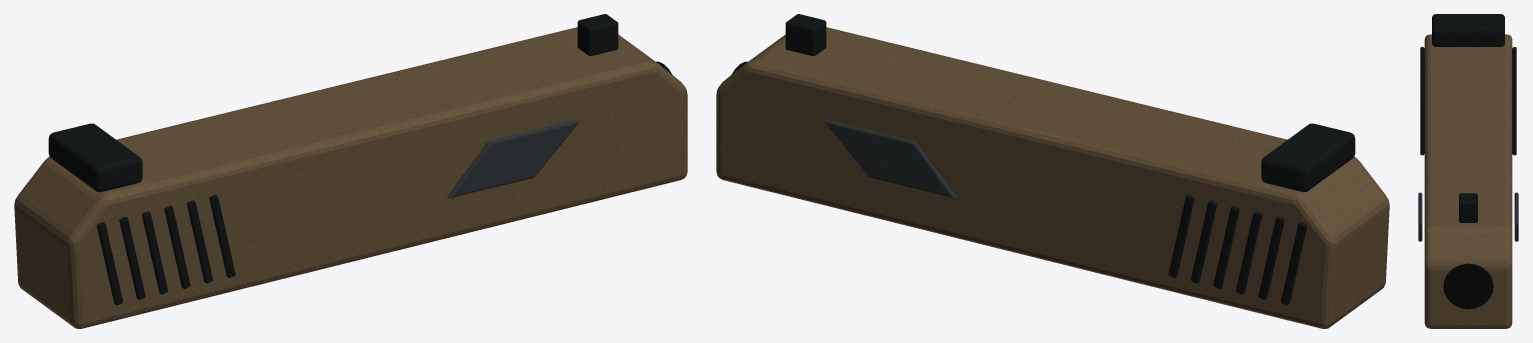
Rendered from mote03.slide.glb.
3 views of the same model, side by side, from view 1: azimuth 30°, elevation 25°; view 2: azimuth 150°, elevation 25°; view 3: azimuth 270°, elevation 25° (orthographic). The views are drawn at different scales.
Parts seen in each view (by area): view 1: VIS_mote03_slide; view 2: VIS_mote03_slide; view 3: VIS_mote03_slide.
Boxes of the visible parts, box(x1,y1,x2,y2) form: VIS_mote03_slide: box(14, 14, 687, 328); VIS_mote03_slide: box(716, 14, 1389, 328); VIS_mote03_slide: box(1418, 14, 1518, 328).
Size of the model in its own units: 0.2493 by 0.0595 by 0.048.
4 materials, 4 textured.
